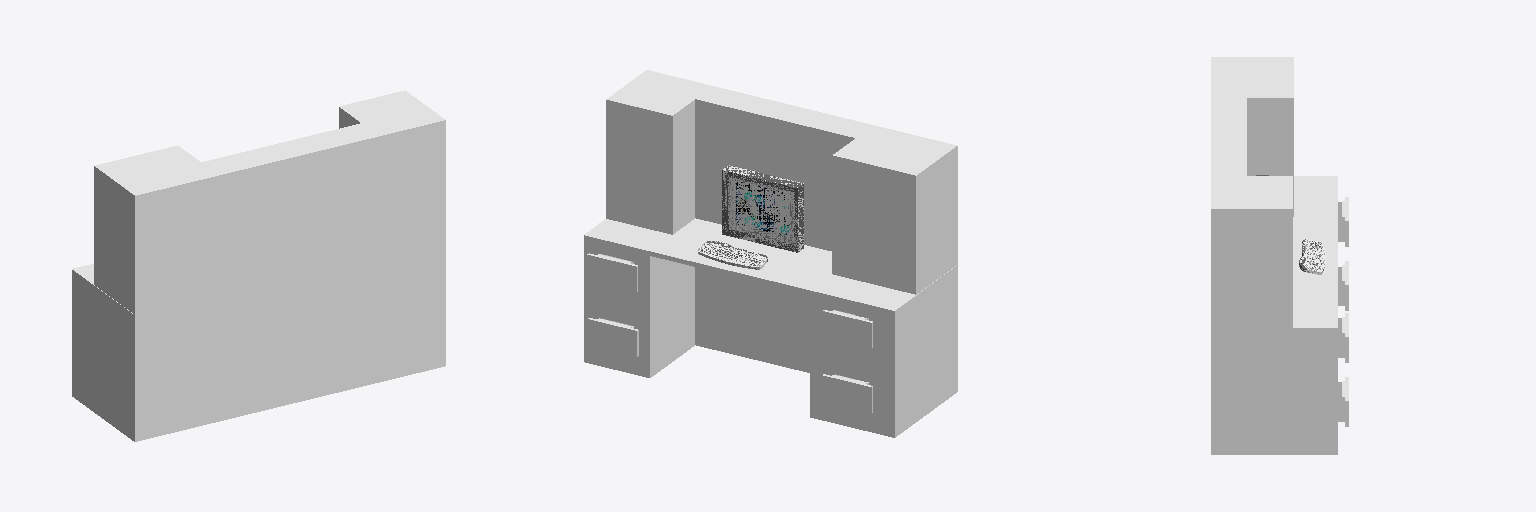
3 renders of one model, left to right at view 1: azimuth 30°, elevation 25°; view 2: azimuth 150°, elevation 25°; view 3: azimuth 270°, elevation 25°, orthographic.
Parts seen in each view (by area): view 1: mesh278_mesh278-geometry; view 2: mesh278_mesh278-geometry, mesh1_mesh1-geometry, mesh271_mesh271-geometry; view 3: mesh278_mesh278-geometry, mesh271_mesh271-geometry.
Boxes of the visible parts, <box> form: mesh278_mesh278-geometry: <box>72,90,445,441</box>; mesh278_mesh278-geometry: <box>584,70,957,437</box>; mesh1_mesh1-geometry: <box>722,165,803,252</box>; mesh271_mesh271-geometry: <box>698,241,767,269</box>; mesh278_mesh278-geometry: <box>1211,57,1348,454</box>; mesh271_mesh271-geometry: <box>1299,239,1325,274</box>.
Bounding box in the file's own units: 0.7631 × 0.5767 × 0.2919.
Materials: 10 (2 with a texture image).